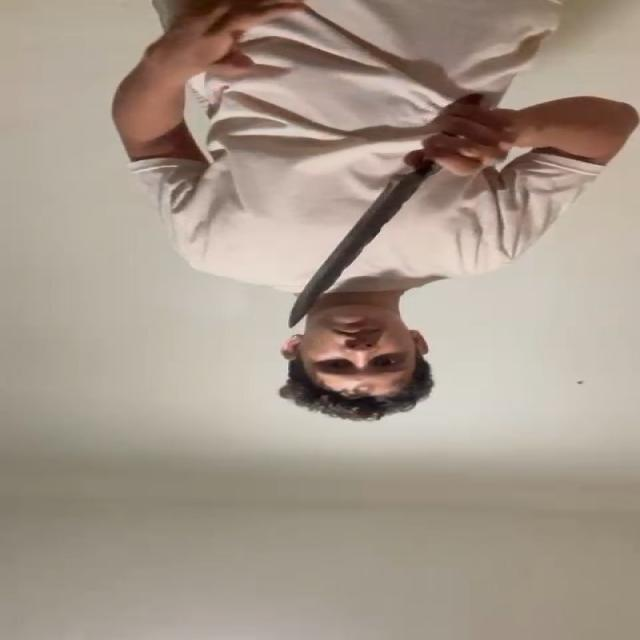knife: (290, 174, 425, 324)
